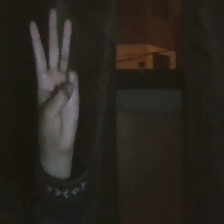W: (20, 1, 87, 161)
